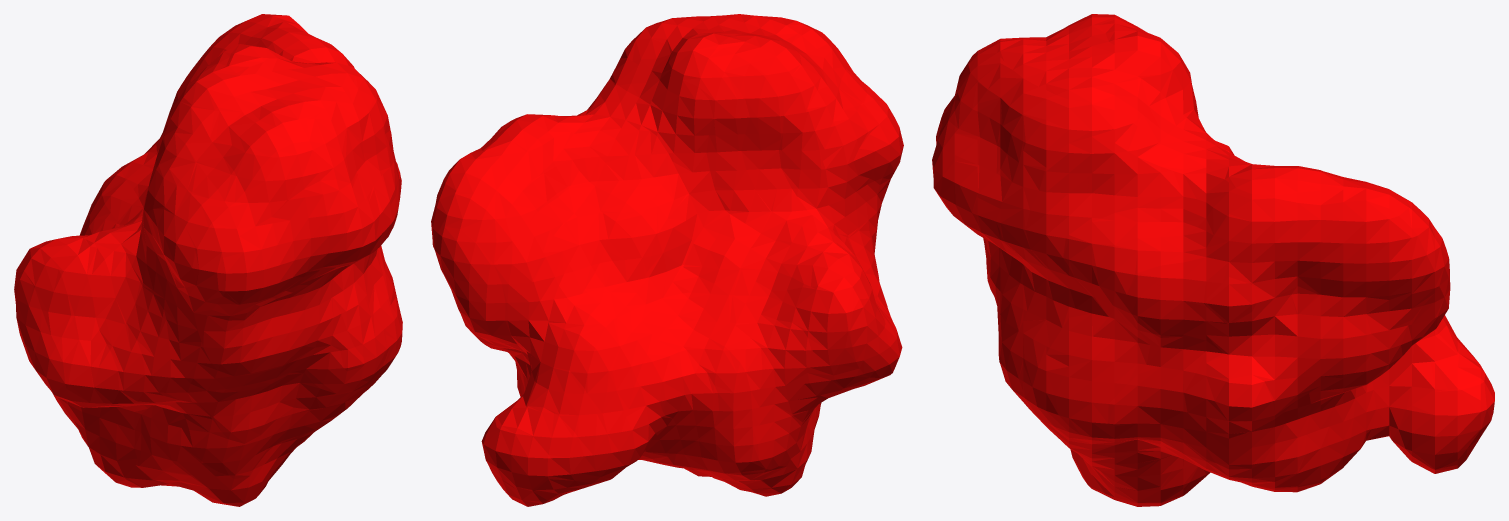
Rendered from arnB_coarse.dae.
3 views of the same model, side by side, from view 1: azimuth 30°, elevation 25°; view 2: azimuth 150°, elevation 25°; view 3: azimuth 270°, elevation 25° (orthographic). The views are drawn at different scales.
Parts seen in each view (by area): view 1: arnB; view 2: arnB; view 3: arnB.
Boxes of the visible parts, x1,y1,x2,y2 form: arnB: (14,14,402,506); arnB: (431,14,903,506); arnB: (932,14,1494,506).
Bounding box in the file's own units: 53.08 × 59.56 × 64.02.
